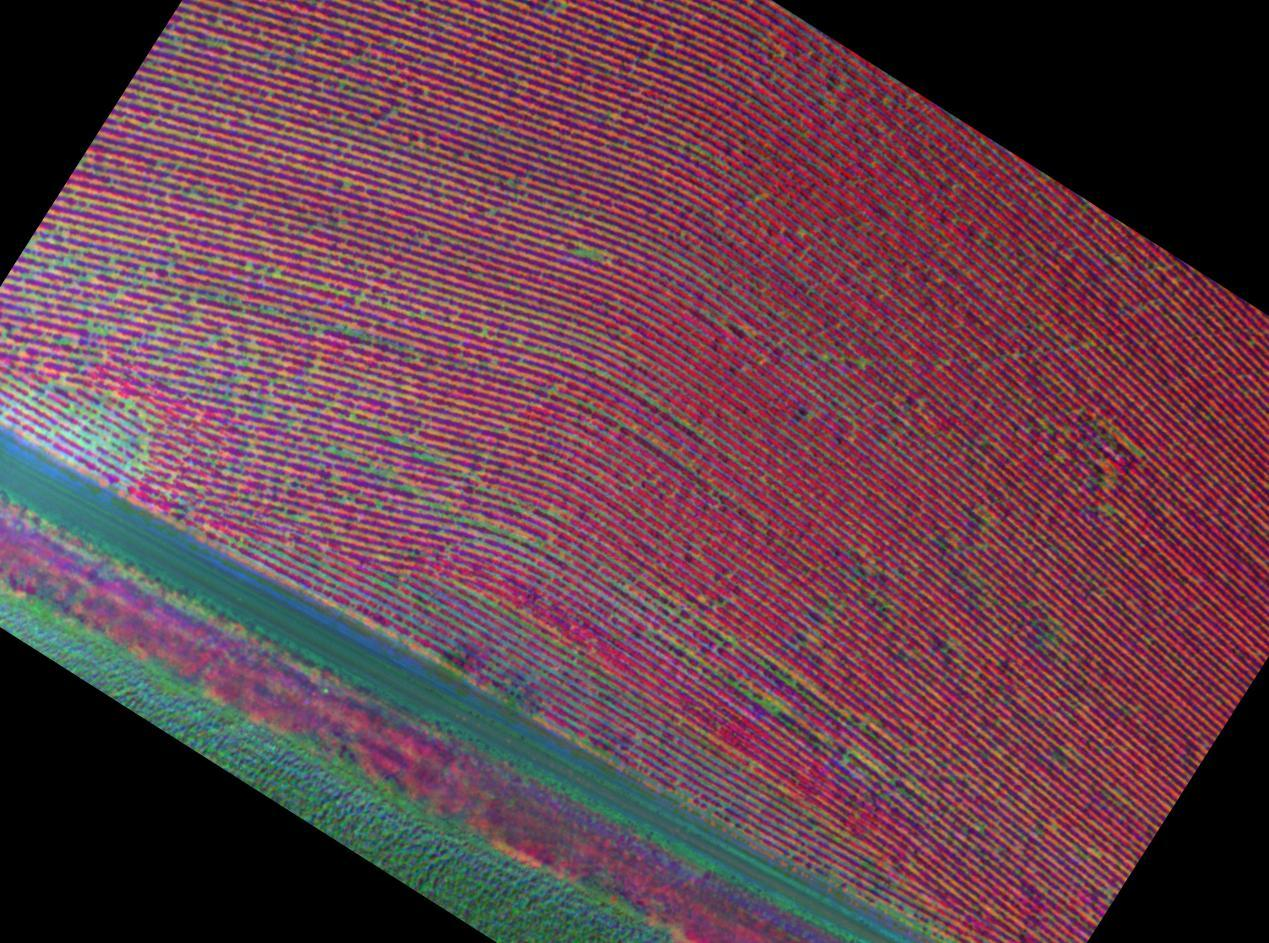dc: (93, 437, 100, 444), (764, 699, 769, 707), (585, 250, 590, 256), (140, 414, 145, 420), (63, 339, 68, 344), (333, 475, 338, 480), (483, 331, 487, 336), (1136, 450, 1140, 455), (175, 249, 179, 253), (357, 297, 361, 301), (412, 488, 416, 492), (1050, 636, 1053, 640), (638, 733, 642, 736)
